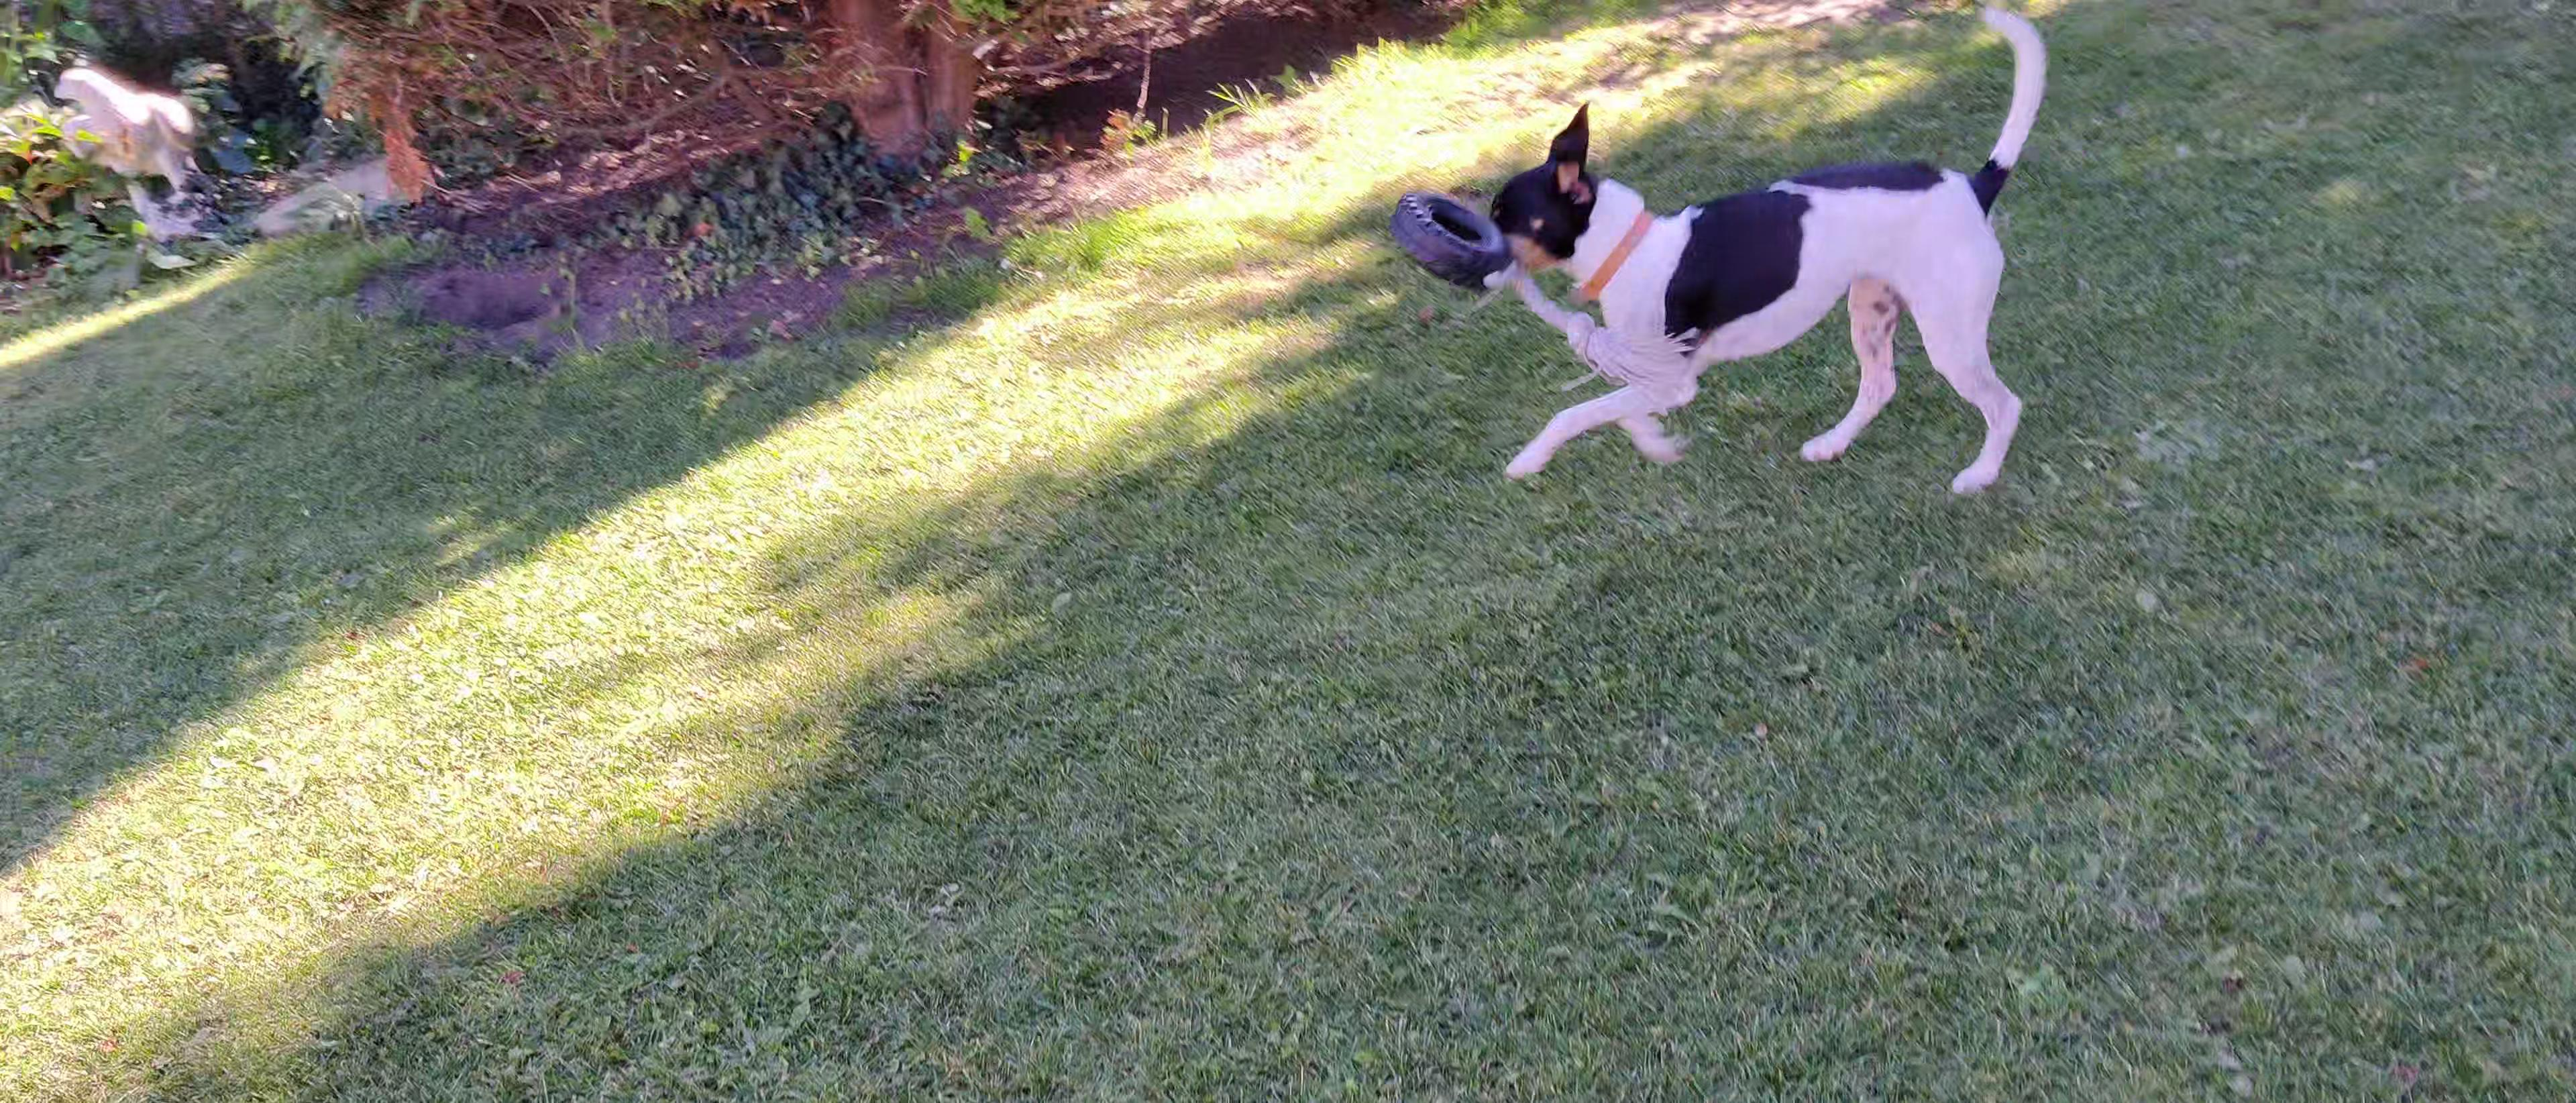Dog: (1462, 7, 2095, 505)
